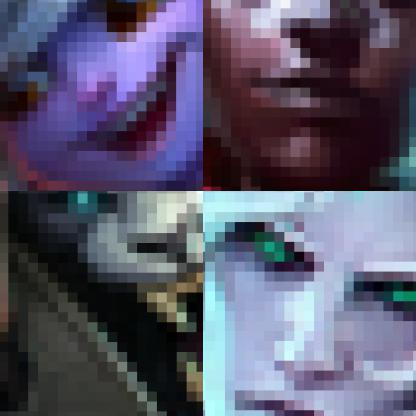Ekko: (203, 0, 415, 190)
Rengar: (0, 191, 202, 415)
Tristana: (0, 0, 202, 190)
Viego: (203, 191, 415, 415)
